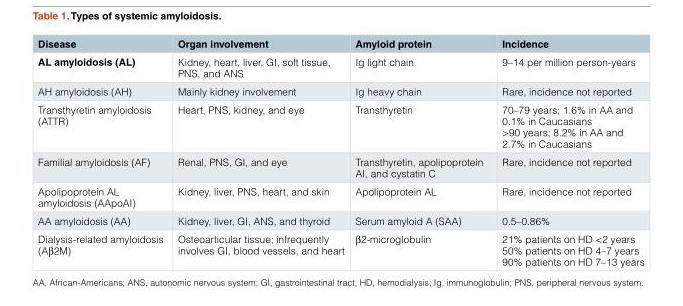table: (37, 37, 643, 267)
table column: (169, 37, 349, 267), (491, 37, 643, 267), (349, 37, 491, 267), (37, 37, 169, 267)
table column header: (37, 37, 643, 52)
table row: (37, 99, 643, 152), (37, 229, 643, 267), (37, 181, 643, 211), (37, 52, 643, 81), (37, 152, 643, 181), (37, 81, 643, 99), (37, 211, 643, 229), (37, 37, 643, 52)
